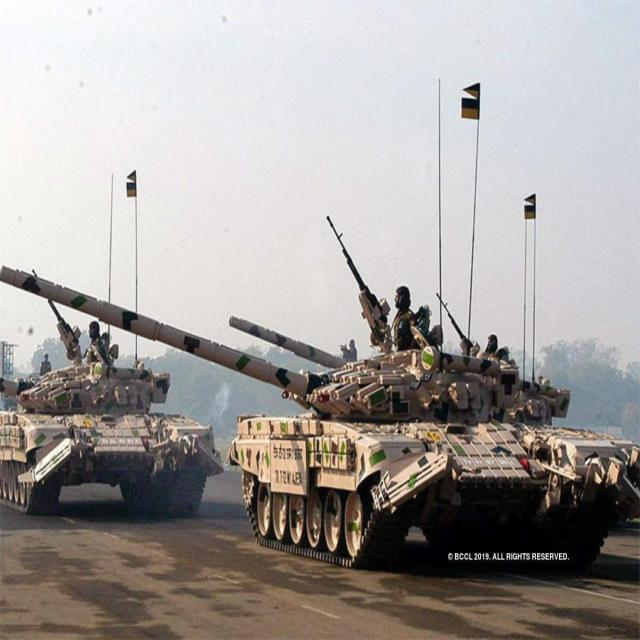Tanks: (235, 296, 633, 588), (4, 300, 219, 523)
